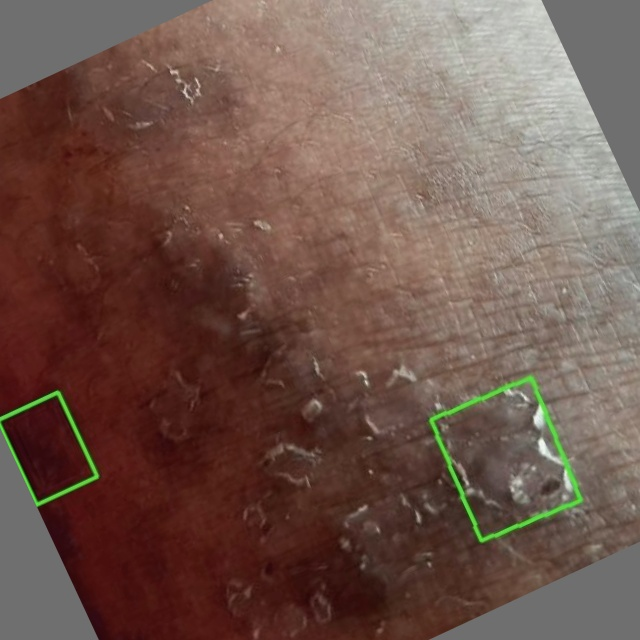Tinea Corporis: (431, 377, 581, 540), (0, 392, 97, 505)
